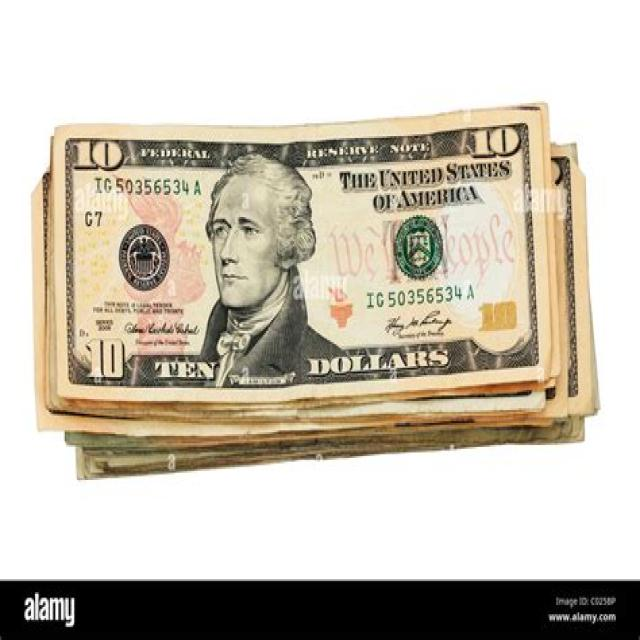Ten: (54, 110, 558, 401)
